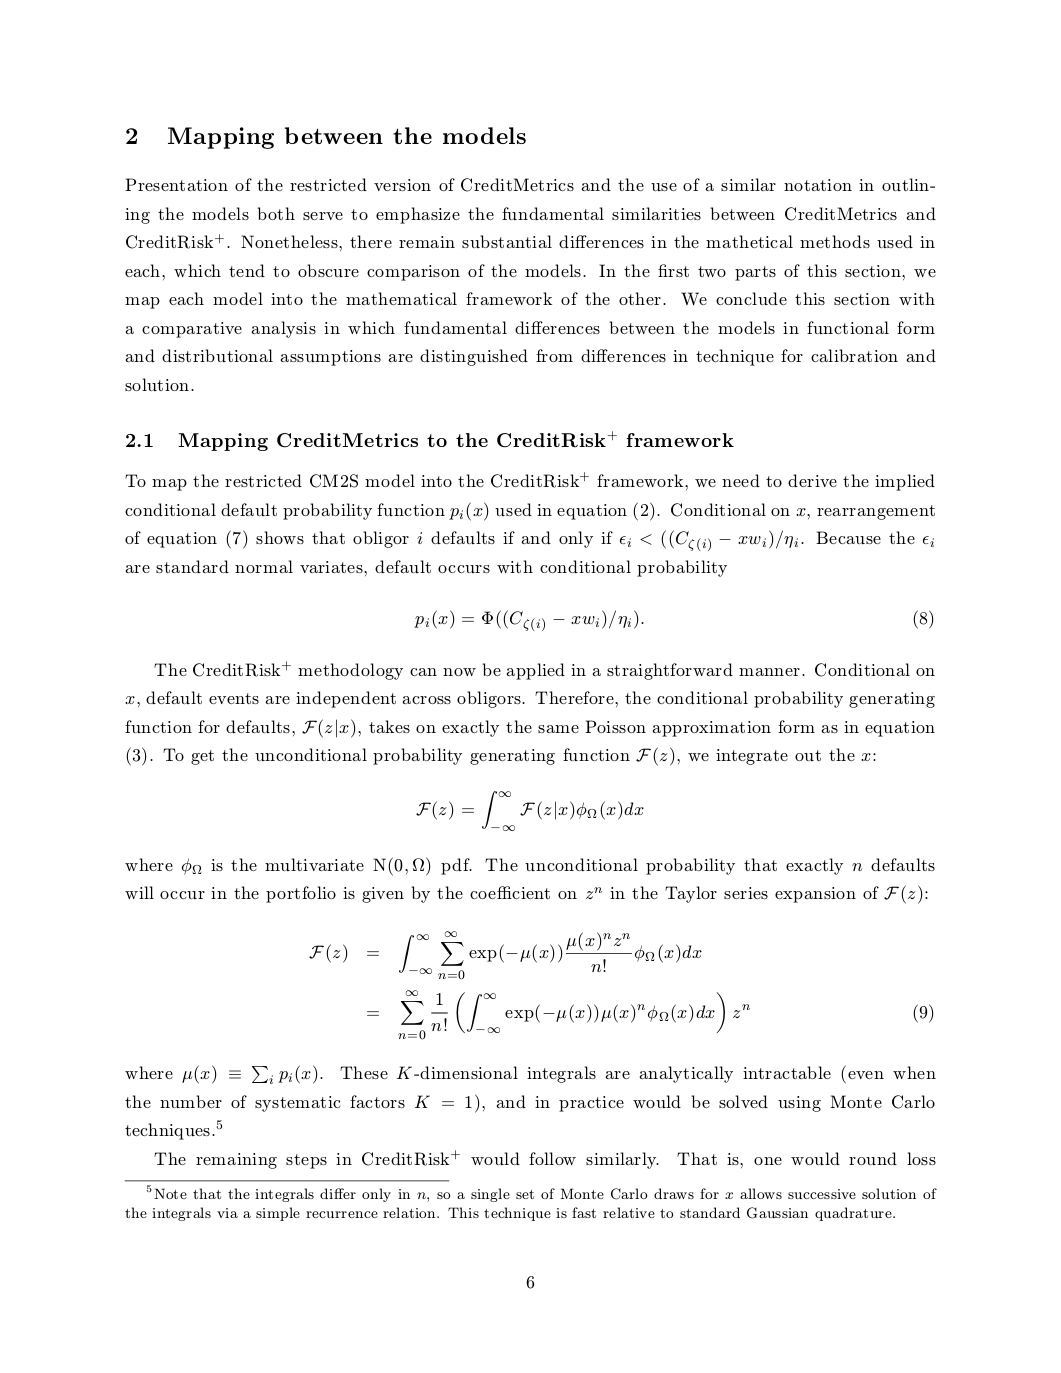formula: (367, 989, 933, 1040), (309, 929, 701, 980), (413, 608, 933, 632), (416, 790, 643, 832)
